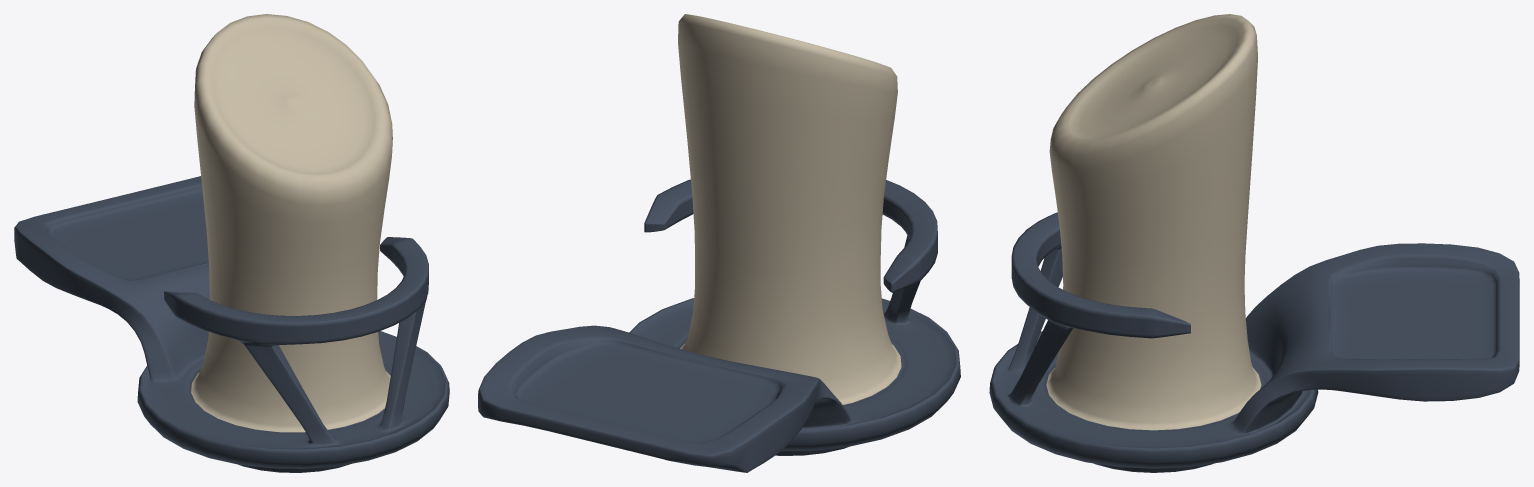
The model's file is candleModel_V01.fbx.
3 views of the same model, side by side, from view 1: azimuth 30°, elevation 25°; view 2: azimuth 150°, elevation 25°; view 3: azimuth 270°, elevation 25° (orthographic). The views are drawn at different scales.
Parts seen in each view (by area): view 1: candle_geo; view 2: candle_geo; view 3: candle_geo.
Part boxes in pixels (box(x1,y1,x2,y2)): candle_geo: box(14, 14, 449, 472); candle_geo: box(478, 14, 960, 472); candle_geo: box(989, 14, 1519, 472).
Bounding box in the file's own units: 19.53 × 31.48 × 26.53.
